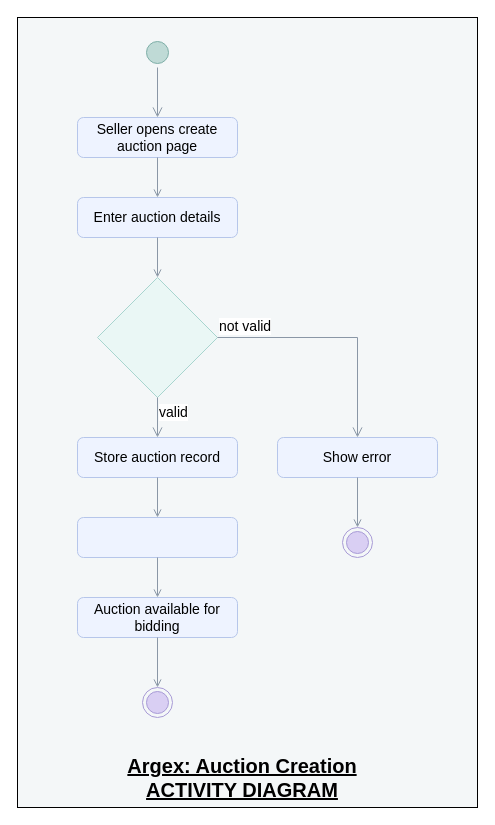
Image size: 495x825. Some labels were removed from this diagram. The centre of each missing label's shape, as x and y in pixels:
"Publish auction" goes at (157,537).
"Validate auction data" goes at (157,337).
